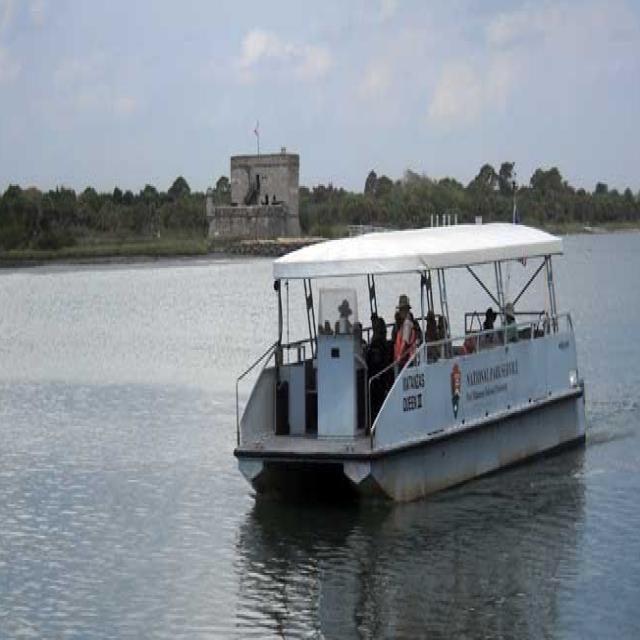houseboat: (218, 190, 593, 511)
